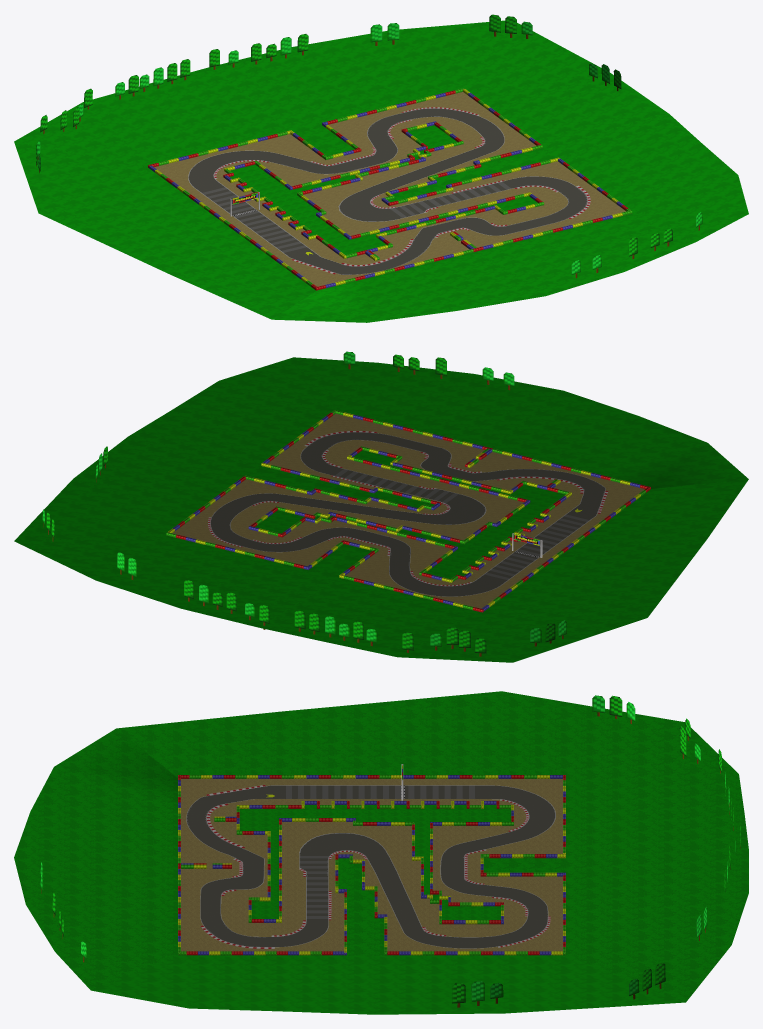
Rendered from Map.obj.
3 views of the same model, one above another, from view 1: azimuth 30°, elevation 25°; view 2: azimuth 150°, elevation 25°; view 3: azimuth 270°, elevation 25° (orthographic). The views are drawn at different scales.
Parts seen in each view (by area): view 1: polygon38, polygon37, polygon40, polygon0, polygon1, polygon46, polygon41, polygon23; view 2: polygon38, polygon37, polygon40, polygon0, polygon1, polygon46, polygon41, polygon23; view 3: polygon38, polygon37, polygon40, polygon1, polygon0, polygon46, polygon41, polygon23.
Part boxes in pixels (x1=…): polygon38: x1=14, y1=20, x2=748, y2=322; polygon37: x1=154, y1=92, x2=625, y2=286; polygon40: x1=188, y1=108, x2=587, y2=274; polygon0: x1=148, y1=89, x2=632, y2=290; polygon1: x1=148, y1=88, x2=631, y2=288; polygon46: x1=36, y1=14, x2=702, y2=277; polygon41: x1=201, y1=181, x2=511, y2=252; polygon23: x1=214, y1=107, x2=590, y2=274; polygon38: x1=14, y1=357, x2=748, y2=662; polygon37: x1=172, y1=413, x2=644, y2=608; polygon40: x1=210, y1=432, x2=605, y2=596; polygon0: x1=166, y1=411, x2=650, y2=612; polygon1: x1=166, y1=410, x2=650, y2=610; polygon46: x1=42, y1=351, x2=566, y2=656; polygon41: x1=334, y1=469, x2=589, y2=580; polygon23: x1=208, y1=431, x2=608, y2=586; polygon38: x1=14, y1=691, x2=748, y2=1014; polygon37: x1=181, y1=779, x2=562, y2=951; polygon40: x1=186, y1=785, x2=555, y2=948; polygon1: x1=178, y1=775, x2=565, y2=952; polygon0: x1=178, y1=776, x2=565, y2=955; polygon46: x1=40, y1=695, x2=740, y2=1007; polygon41: x1=286, y1=785, x2=474, y2=918; polygon23: x1=200, y1=764, x2=550, y2=948.
Bounding box in the file's own units: 29855 × 1447 × 28671.
